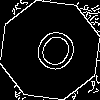O: (25, 25, 82, 85)
